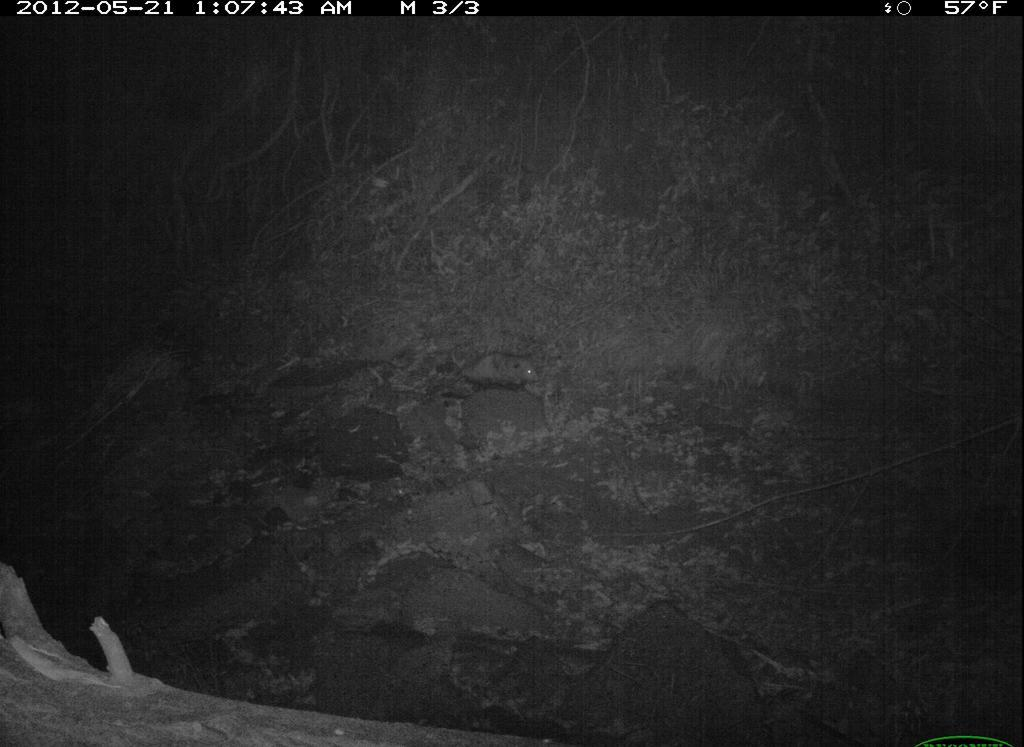opossum: (424, 336, 562, 418)
